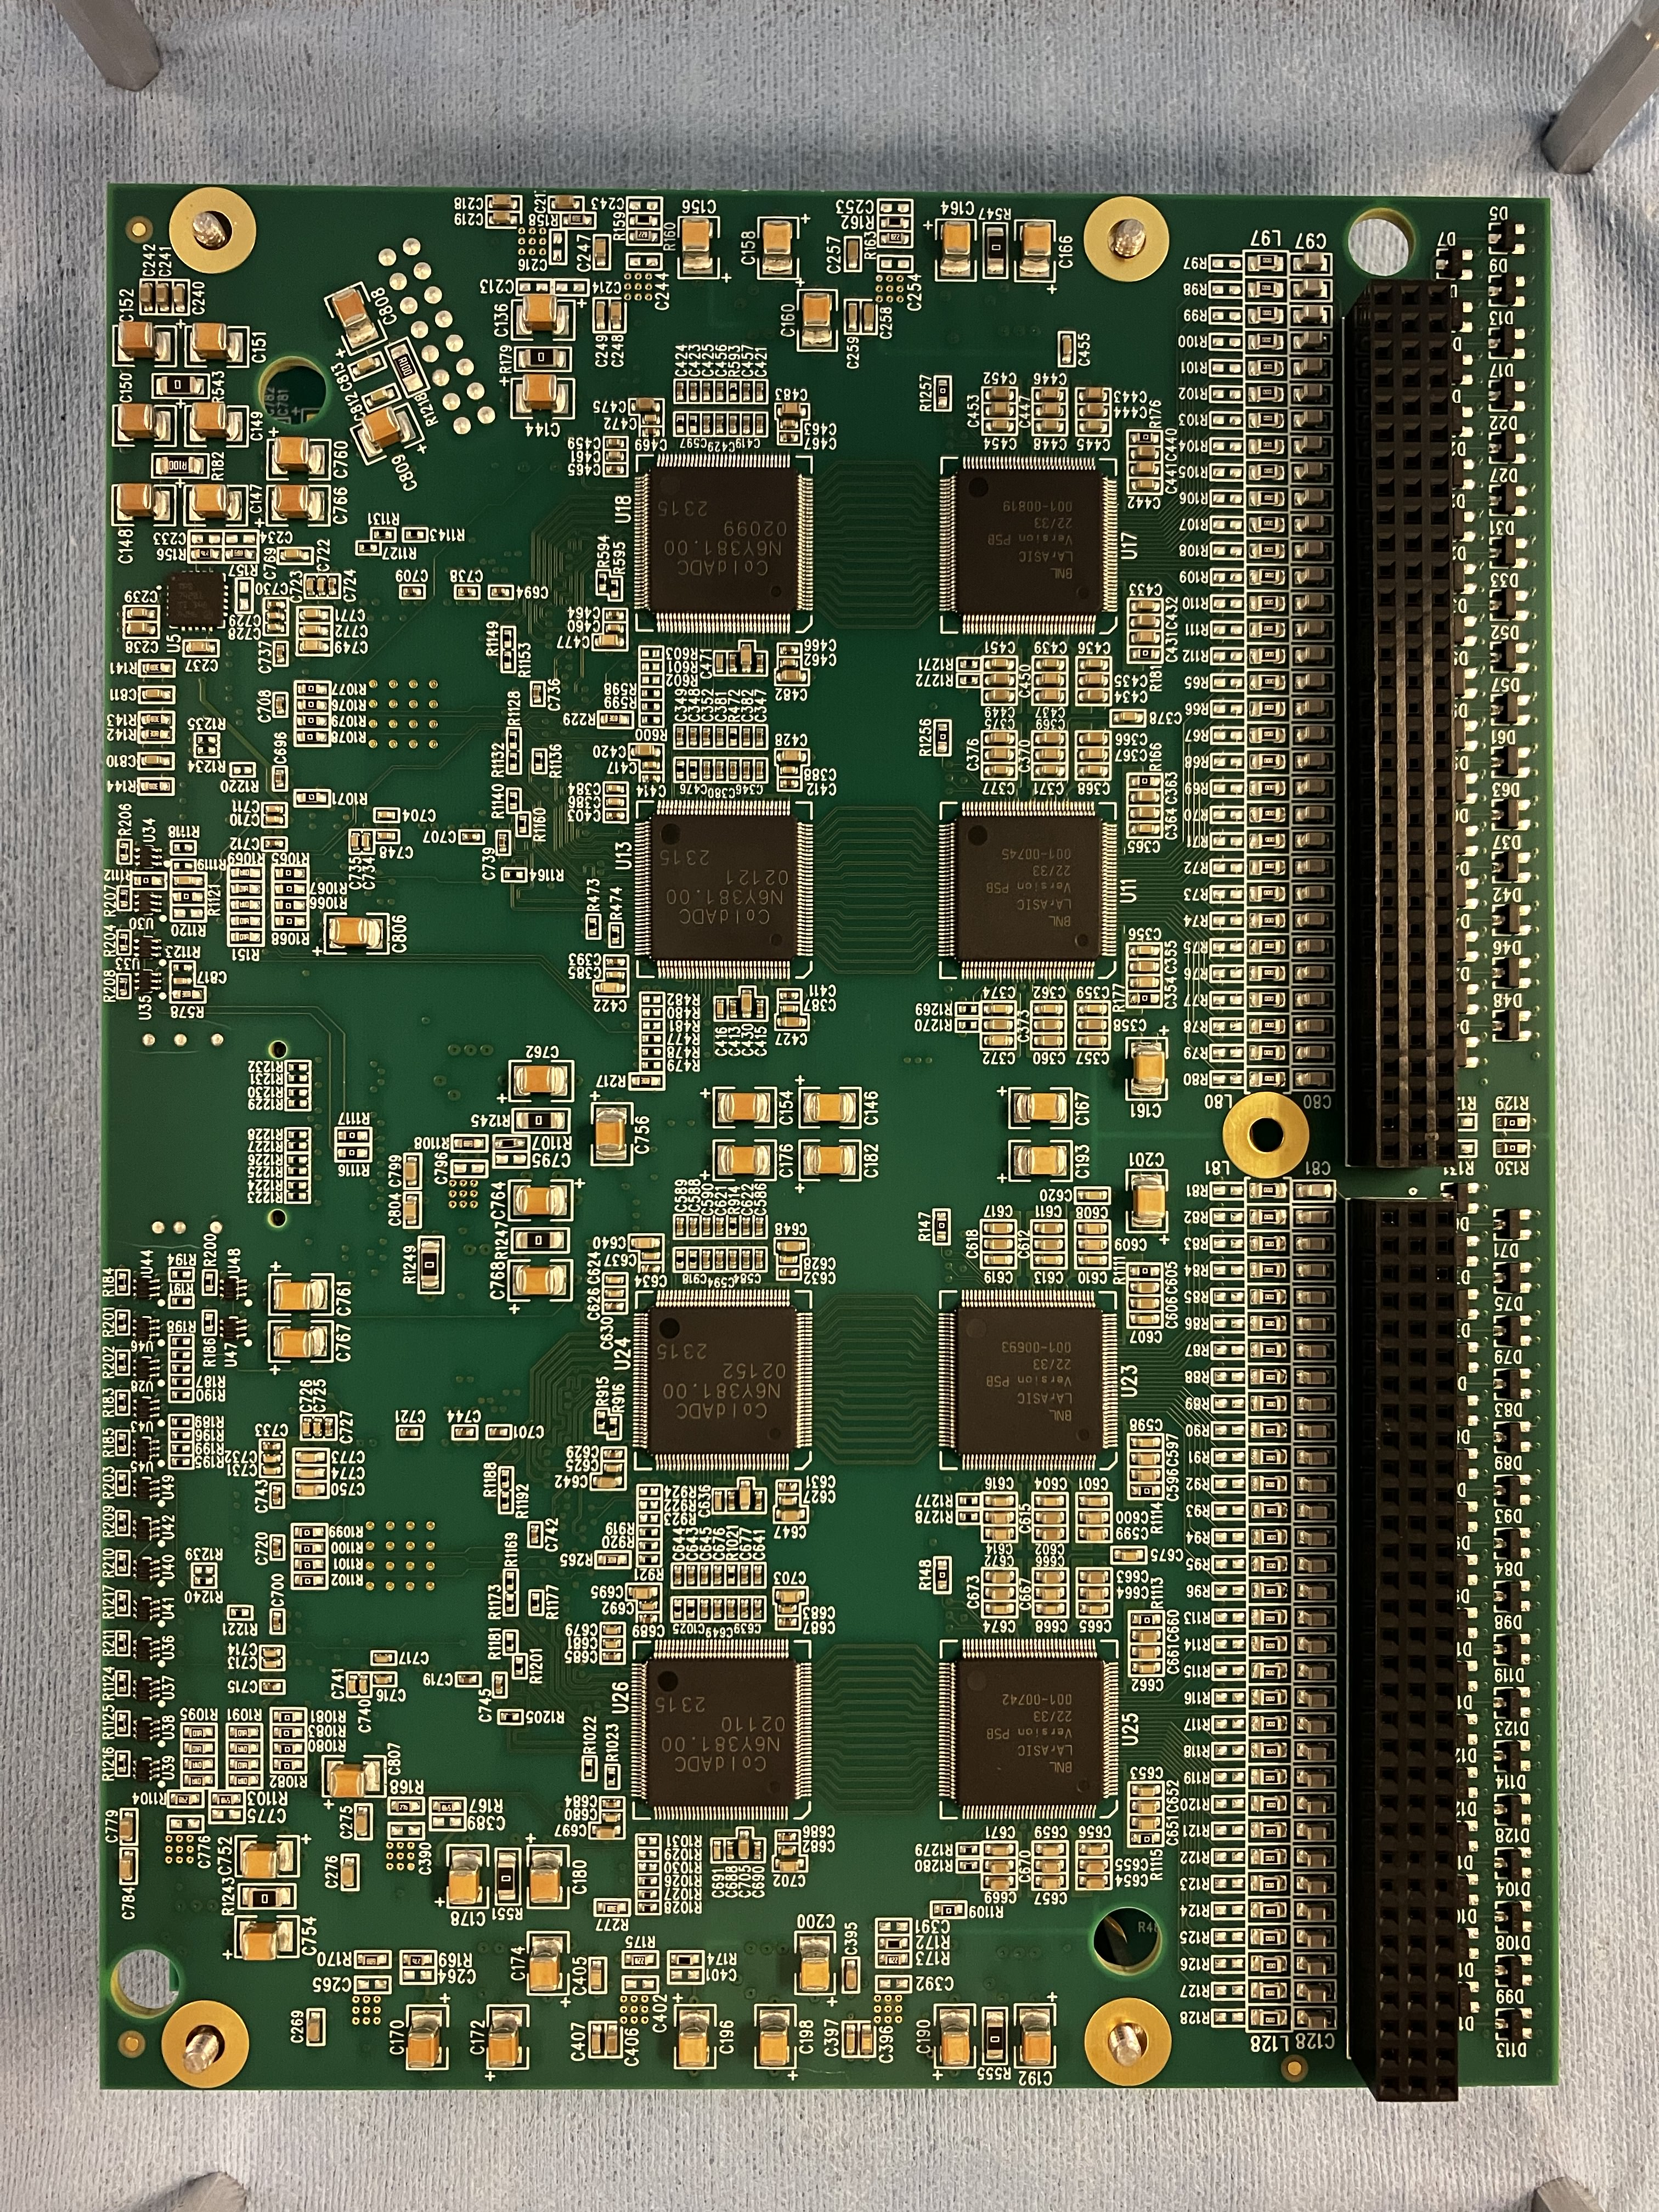chip: (652, 815, 800, 965), (955, 813, 1103, 963), (648, 1306, 796, 1456), (647, 1656, 795, 1806), (650, 467, 796, 617), (957, 469, 1103, 618), (955, 1306, 1101, 1456), (957, 1658, 1103, 1808)
